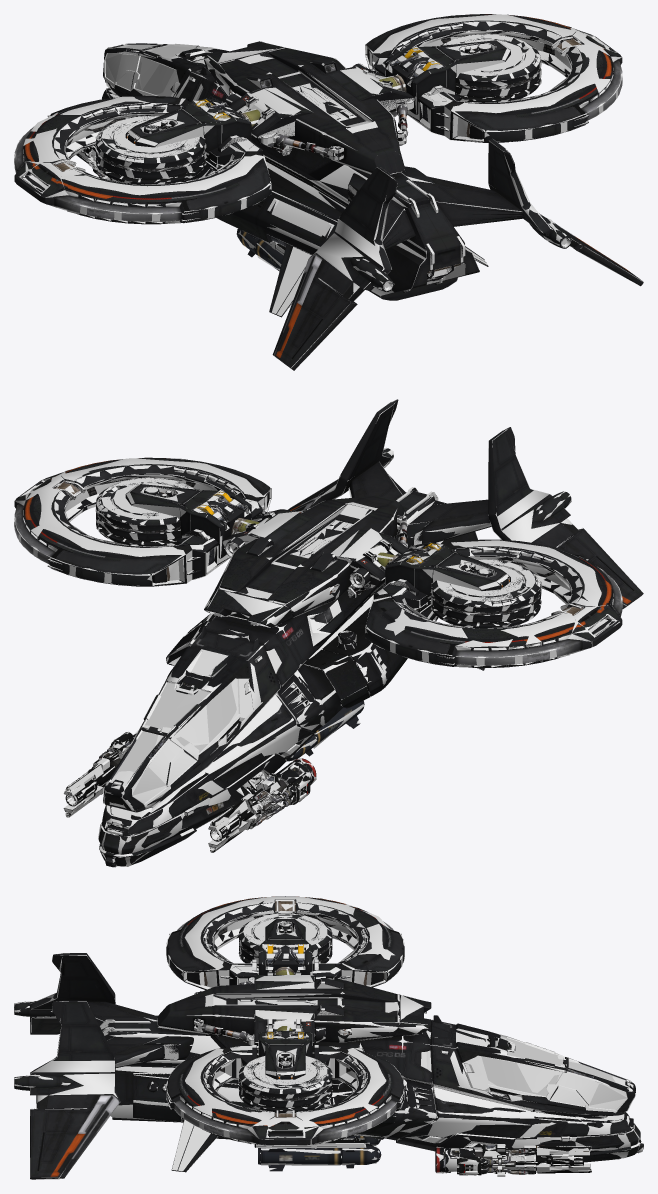
Rendered from sf_stealth_fighter.fbx.
3 renders of one model, top to bottom at view 1: azimuth 30°, elevation 25°; view 2: azimuth 150°, elevation 25°; view 3: azimuth 270°, elevation 25°, orthographic. The views are drawn at different scales.
Parts seen in each view (by area): view 1: Render_LOD0, PlacementSurface; view 2: Render_LOD0, PlacementSurface; view 3: Render_LOD0, PlacementSurface.
Boxes of the visible parts, bbox=[...] form: Render_LOD0: bbox=[14, 14, 643, 370]; PlacementSurface: bbox=[14, 14, 643, 368]; Render_LOD0: bbox=[14, 399, 643, 867]; PlacementSurface: bbox=[14, 400, 642, 867]; Render_LOD0: bbox=[14, 896, 643, 1179]; PlacementSurface: bbox=[14, 897, 643, 1179].
Size of what is drawn, in the model's own units: 5.46 by 1.91 by 6.
